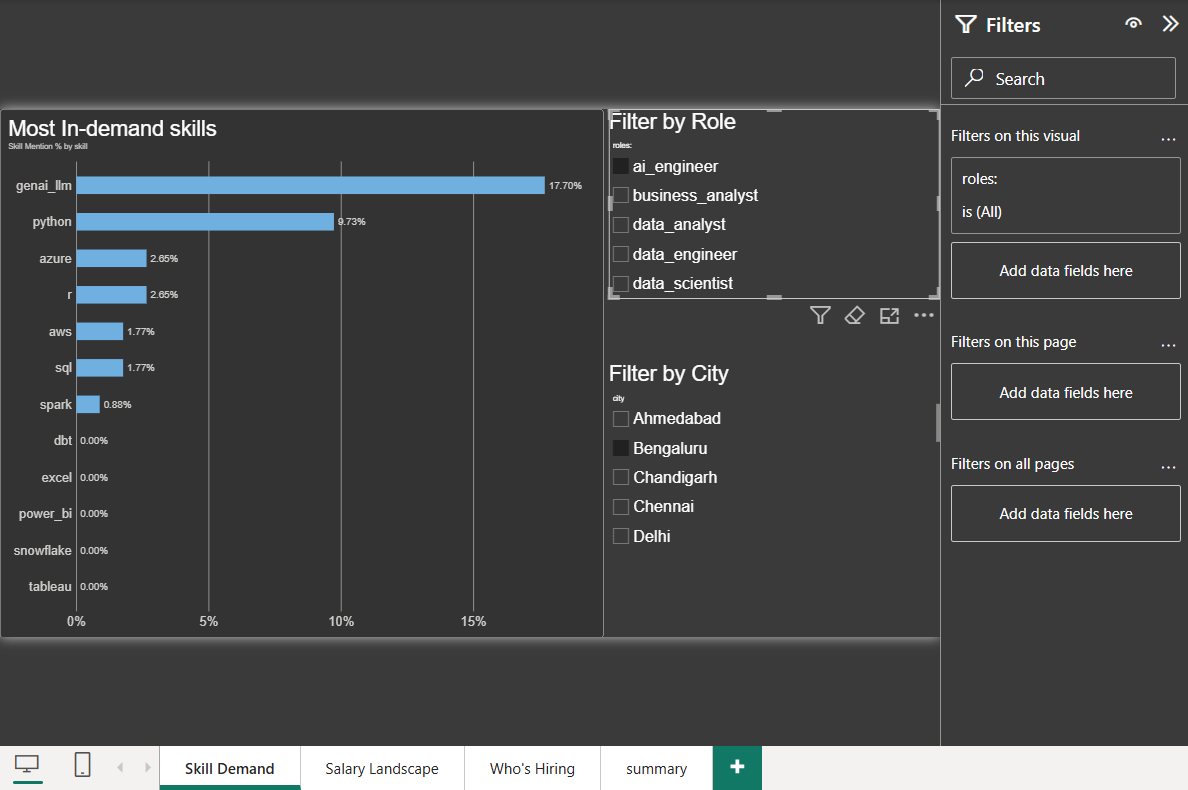

The dashboard page shown, as its layout file describes it:
{"tool":"powerbi","page":{"name":"Skill Demand","canvas":[1920,1080],"ordinal":0},"visuals":[{"type":"barChart","title":"Most In-demand skills","fields":{"Category":["postings.skill"],"Y":["postings.Skill Mention %"]},"box":[0,0,1232.9,1080.6],"z":0},{"type":"slicer","title":"Filter by Role","fields":{"Values":["postings.role_category"]},"box":[1243.2,0,677.2,387],"z":1000},{"type":"slicer","title":"Filter by City","fields":{"Values":["postings.city"]},"box":[1243.2,514.6,677.2,393.1],"z":2000}]}

Visuals, with their boxes on the page's 1920x1080 design canvas (x1, y1, x2, y2). These are canvas units, not pixel positions in the 1188x790 screenshot, which may show the page scaled, cropped or inside an application window:
"Most In-demand skills" barChart: {"x1": 0, "y1": 0, "x2": 1233, "y2": 1081}
"Filter by Role" slicer: {"x1": 1243, "y1": 0, "x2": 1920, "y2": 387}
"Filter by City" slicer: {"x1": 1243, "y1": 515, "x2": 1920, "y2": 908}
